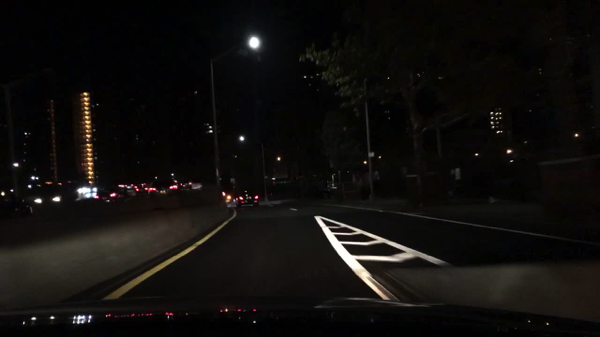car: (1, 198, 34, 220), (147, 176, 177, 198), (93, 186, 126, 206), (292, 184, 335, 199), (34, 189, 66, 204), (236, 191, 260, 206), (76, 186, 95, 195), (76, 192, 96, 200), (178, 178, 192, 189), (135, 184, 148, 195), (221, 193, 232, 205), (125, 184, 135, 195)
traffic sign: (453, 169, 461, 181), (367, 152, 376, 157), (230, 180, 235, 185)
